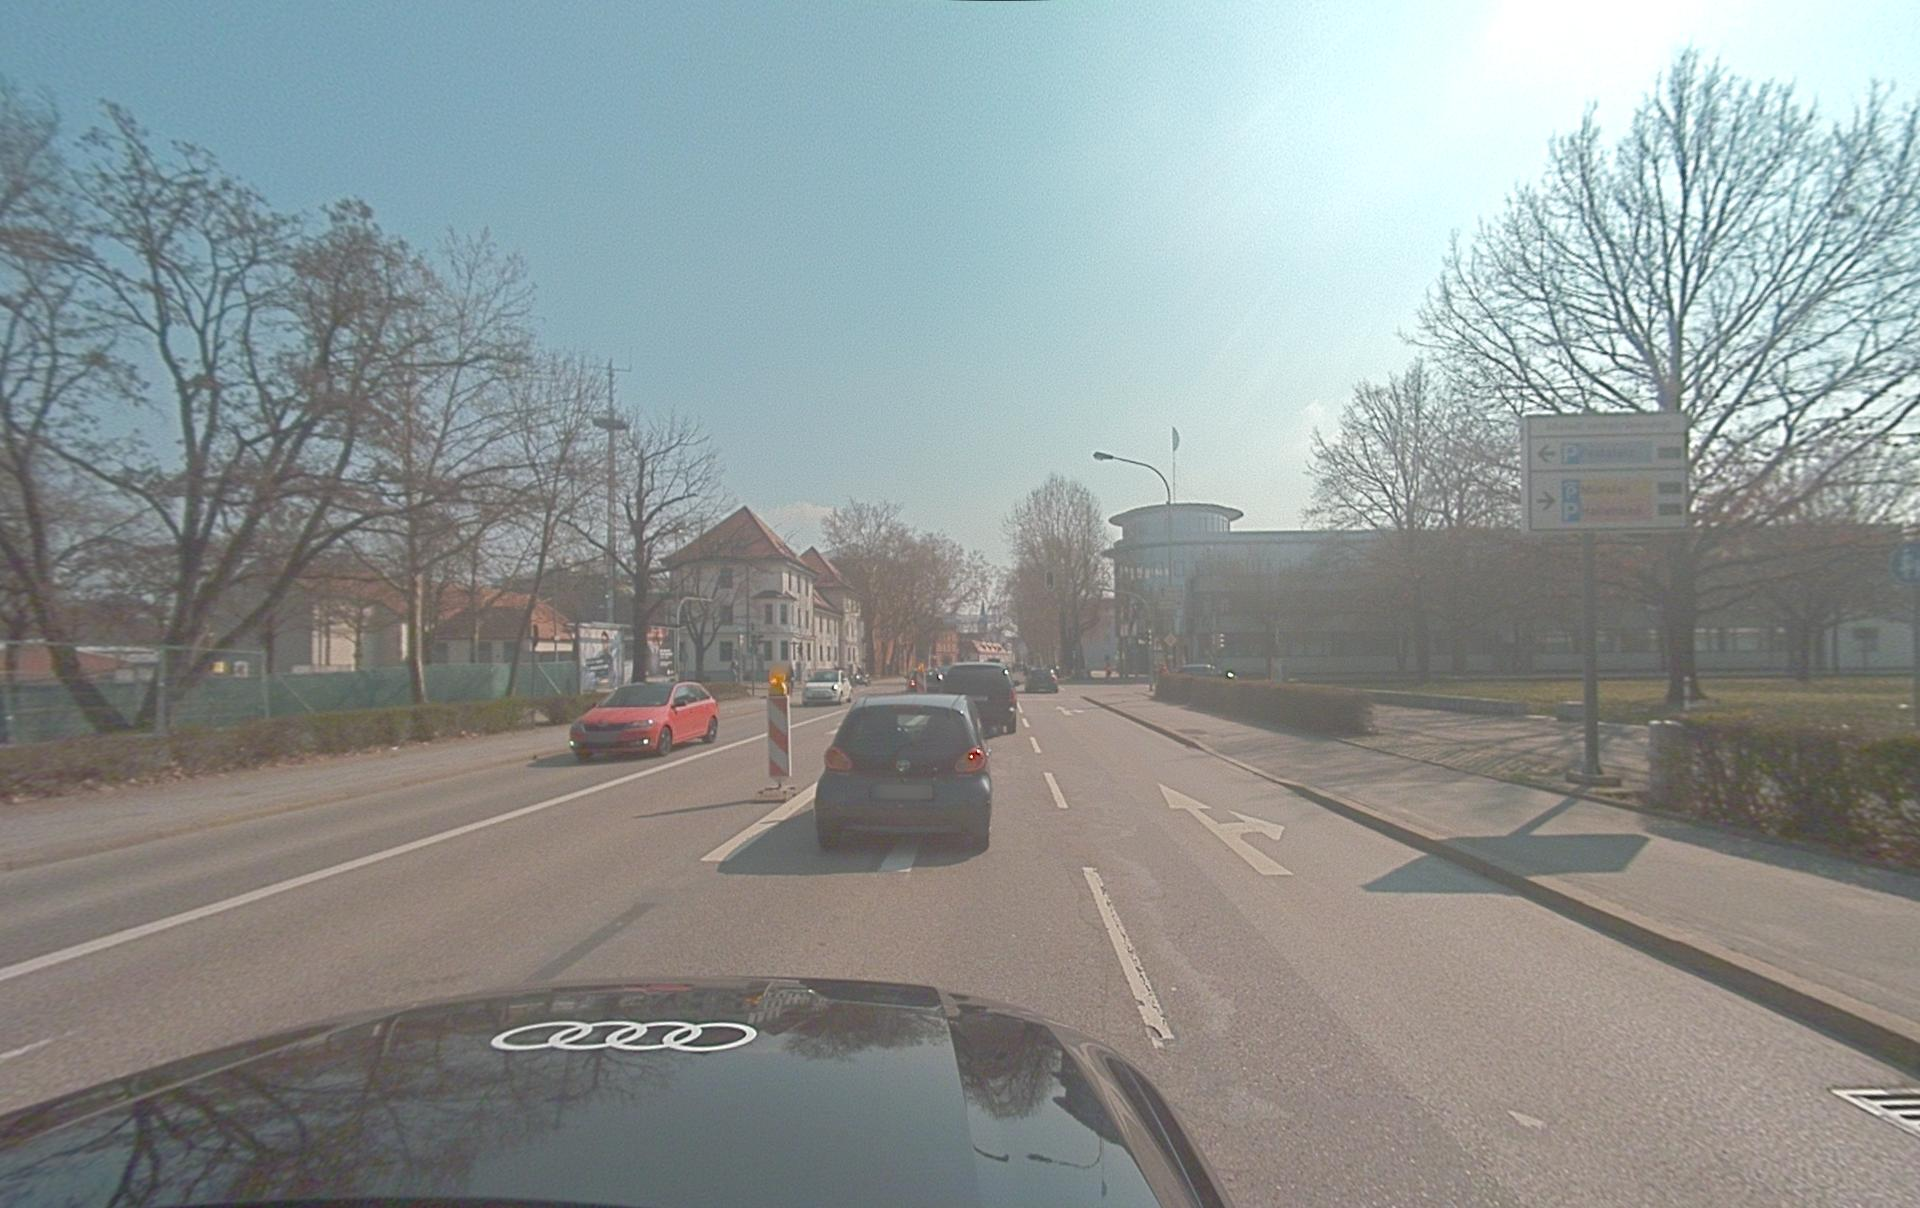car: (0, 974, 1233, 1208), (814, 693, 993, 852), (569, 679, 719, 763), (928, 662, 1018, 738), (803, 667, 853, 706), (1025, 668, 1059, 693)
traffic sign: (1522, 411, 1692, 533)
